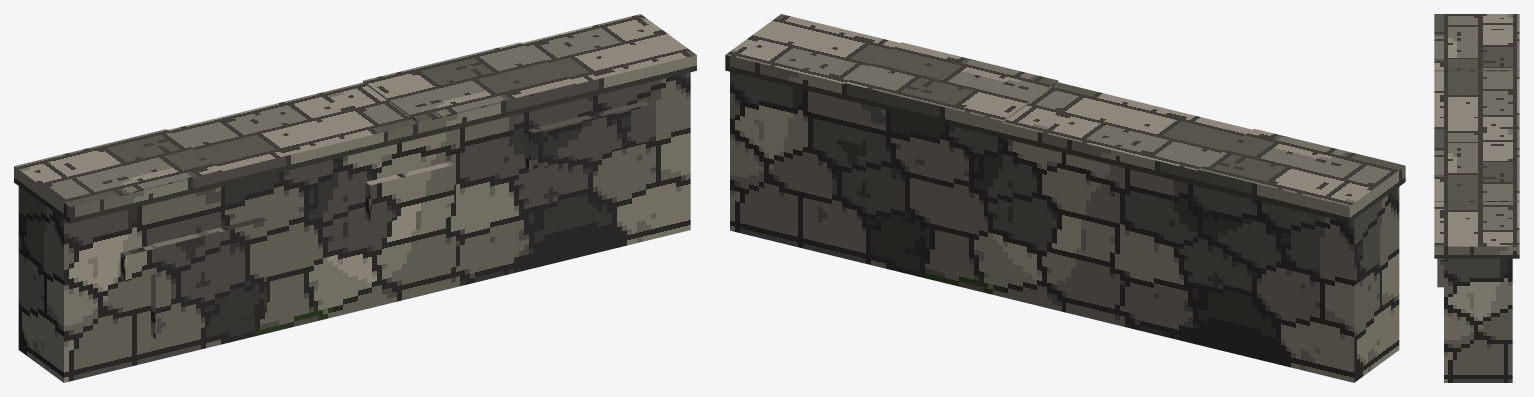
The model's file is MV_Bank_Stone.glb.
3 renders of one model, left to right at view 1: azimuth 30°, elevation 25°; view 2: azimuth 150°, elevation 25°; view 3: azimuth 270°, elevation 25°, orthographic. The views are drawn at different scales.
Visible parts, largest first — view 1: MV_Bank_Stone_4m_A.MV_Bank_Stone; view 2: MV_Bank_Stone_4m_A.MV_Bank_Stone; view 3: MV_Bank_Stone_4m_A.MV_Bank_Stone.
Boxes of the visible parts, x1,y1,x2,y2 form: MV_Bank_Stone_4m_A.MV_Bank_Stone: [14, 14, 696, 382]; MV_Bank_Stone_4m_A.MV_Bank_Stone: [725, 14, 1405, 382]; MV_Bank_Stone_4m_A.MV_Bank_Stone: [1434, 14, 1519, 382].
Size of the model in its own units: 4 by 1.1 by 0.62.
2 materials, 2 textured.
